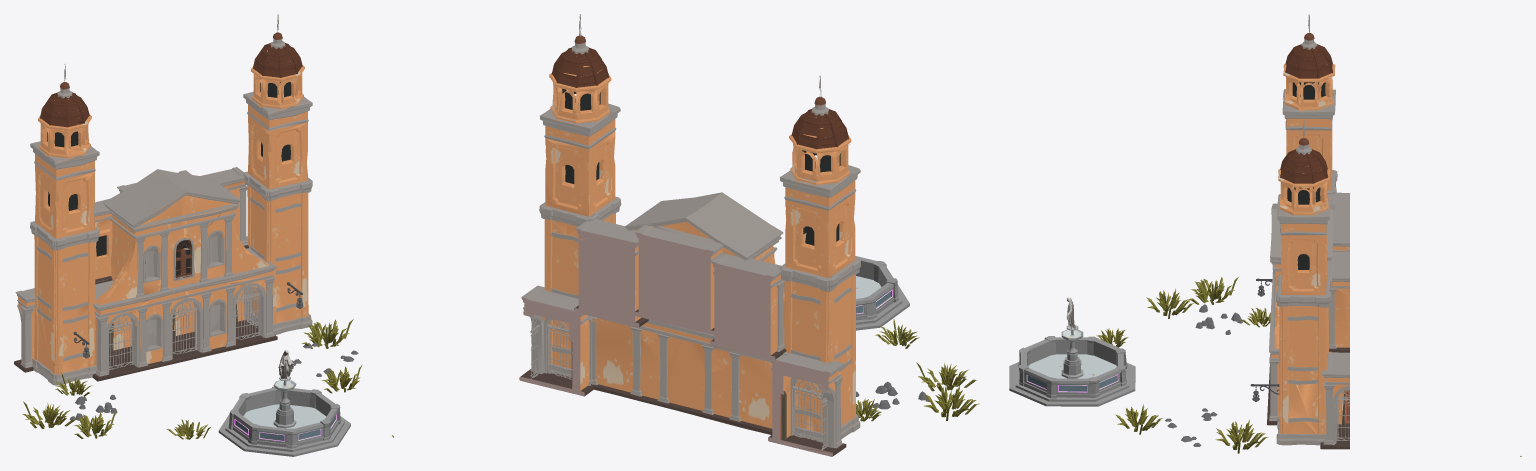
File: fountain2.glb
The picture shows the model from 3 angles, left to right: view 1: azimuth 30°, elevation 25°; view 2: azimuth 150°, elevation 25°; view 3: azimuth 270°, elevation 25°; orthographic projection. The views are drawn at different scales.
Visible parts, largest first — view 1: SM_Bld_Cuba_Hall_Room_02_1, Fountain, SM_Env_Grass_02_5, SM_Env_Grass_02_1, SM_Env_Grass_02, SM_Env_Grass_02_3, SM_Env_Grass_02_4, SM_Env_Grass_02_2, SM_Env_Rocks_01; view 2: SM_Bld_Cuba_Hall_Room_02_1, Fountain, SM_Env_Grass_02_1, SM_Env_Grass_02; view 3: SM_Bld_Cuba_Hall_Room_02_1, Fountain, SM_Env_Grass_02_5, SM_Env_Grass_02_1, SM_Env_Grass_02, SM_Env_Grass_02_3.
Boxes of the visible parts, x1,y1,x2,y2 form: SM_Bld_Cuba_Hall_Room_02_1: (14,14,312,385); Fountain: (218,376,350,456); SM_Env_Grass_02_5: (301,319,353,348); SM_Env_Grass_02_1: (22,401,75,428); SM_Env_Grass_02: (74,411,116,438); SM_Env_Grass_02_3: (321,365,362,393); SM_Env_Grass_02_4: (167,419,210,439); SM_Env_Grass_02_2: (55,373,92,396); SM_Env_Rocks_01: (69,394,117,420); SM_Bld_Cuba_Hall_Room_02_1: (392,14,860,456); Fountain: (783,256,909,330); SM_Env_Grass_02_1: (923,385,979,420); SM_Env_Grass_02: (916,362,977,391); SM_Bld_Cuba_Hall_Room_02_1: (1250,14,1521,456); Fountain: (1009,325,1135,406); SM_Env_Grass_02_5: (1215,419,1268,453); SM_Env_Grass_02_1: (1188,277,1238,304); SM_Env_Grass_02: (1146,288,1194,318); SM_Env_Grass_02_3: (1115,404,1163,434).
Size of the model in its own units: 14.36 by 11.94 by 17.51.
14 materials, 5 textured.
